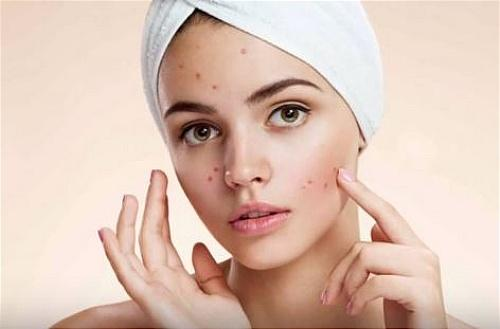Acne: (171, 48, 252, 92), (297, 167, 338, 196), (204, 162, 220, 184)
